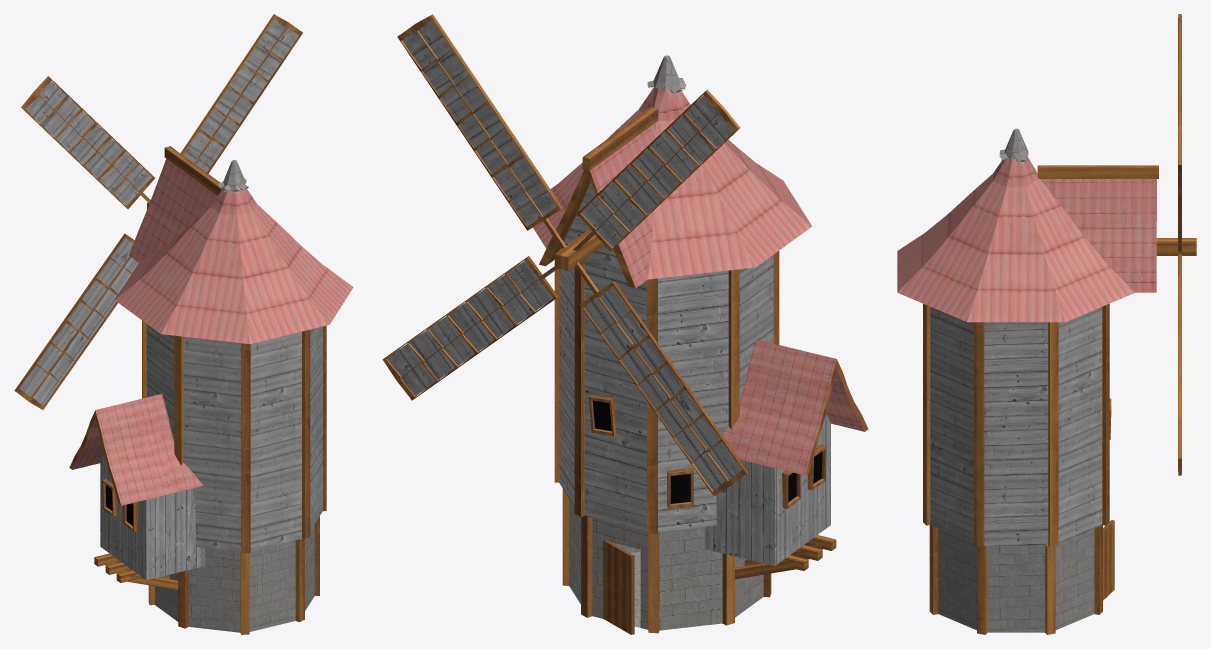
File: Windmill.gltf
The picture shows the model from 3 angles, left to right: view 1: azimuth 30°, elevation 25°; view 2: azimuth 150°, elevation 25°; view 3: azimuth 270°, elevation 25°; orthographic projection. The views are drawn at different scales.
Parts seen in each view (by area): view 1: Cylinder, Cube, Cube.007, Cube.011, Cube.009, Cube.010, Cube.008, Cube.006; view 2: Cylinder, Cube, Cube.009, Cube.011, Cube.013, Cube.007, Cube.010, Cube.008, Cube.006, Cube.012, Cube.003, Cube.001 (+1 smaller); view 3: Cylinder, Cube.012, Cube.005, Cube.008, Cube.006.
Boxes of the visible parts, box(x1,y1,x2,y2) form: Cylinder: box(115, 146, 353, 634); Cube: box(69, 394, 204, 580); Cube.007: box(25, 81, 151, 205); Cube.011: box(19, 238, 138, 405); Cube.009: box(183, 19, 298, 172); Cube.010: box(14, 233, 134, 409); Cube.008: box(180, 14, 302, 173); Cube.006: box(21, 76, 154, 209); Cylinder: box(533, 55, 811, 634); Cube: box(705, 339, 868, 565); Cube.009: box(402, 20, 557, 226); Cube.011: box(584, 286, 742, 490); Cube.013: box(387, 260, 552, 395); Cube.007: box(581, 95, 734, 247); Cube.010: box(575, 262, 748, 495); Cube.008: box(397, 14, 566, 248); Cube.006: box(573, 89, 740, 251); Cube.012: box(382, 256, 558, 400); Cube.003: box(667, 468, 693, 508); Cube.001: box(588, 394, 616, 435); Cylinder: box(897, 128, 1158, 634); Cube.012: box(1178, 254, 1181, 475); Cube.005: box(1156, 238, 1196, 255); Cube.008: box(1178, 124, 1181, 251); Cube.006: box(1178, 14, 1181, 127).
Bounding box in the file's own units: 4.19 × 6.69 × 3.4.
Materials: 5 (4 with a texture image).
